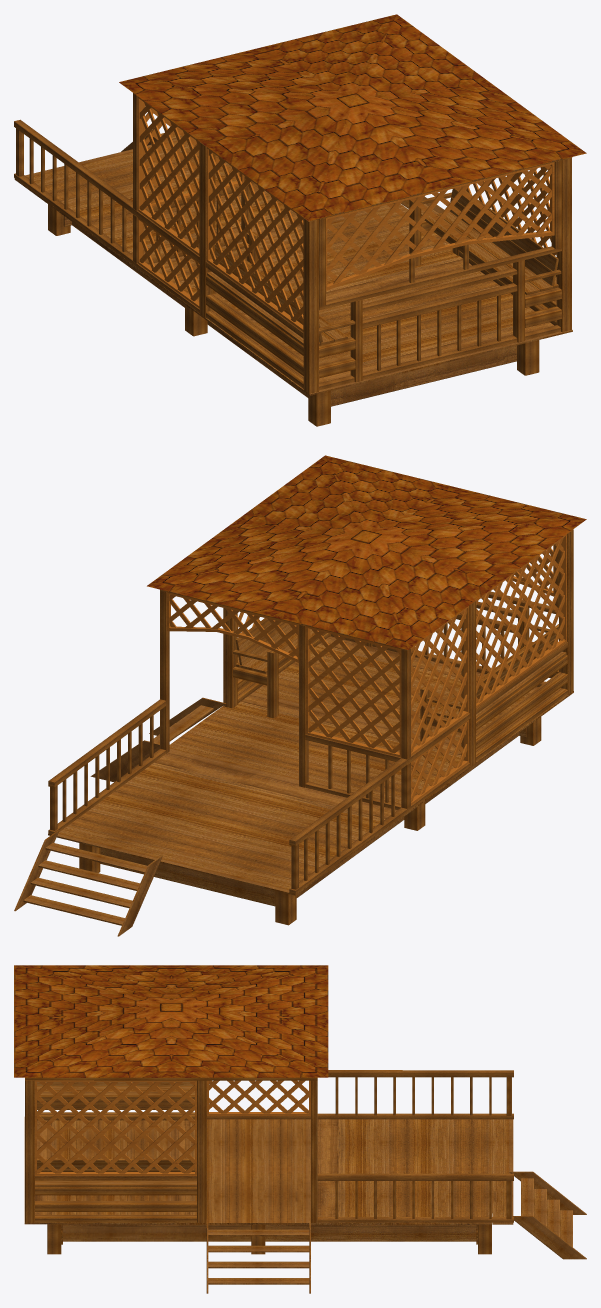
Rendered from Pavilion.FBX.
3 renders of one model, top to bottom at view 1: azimuth 30°, elevation 25°; view 2: azimuth 150°, elevation 25°; view 3: azimuth 270°, elevation 25°, orthographic. The views are drawn at different scales.
Parts seen in each view (by area): view 1: Pavilion, Pavilion_Roof; view 2: Pavilion, Pavilion_Roof, Pavilion_Stair; view 3: Pavilion, Pavilion_Roof, Pavilion_Stair.
Part boxes in pixels (left/top/right/bottom): Pavilion: left=14, top=93, right=572, bottom=426; Pavilion_Roof: left=119, top=14, right=586, bottom=221; Pavilion: left=48, top=529, right=573, bottom=925; Pavilion_Roof: left=147, top=455, right=586, bottom=649; Pavilion_Stair: left=14, top=697, right=225, bottom=936; Pavilion: left=24, top=1070, right=513, bottom=1254; Pavilion_Roof: left=14, top=965, right=328, bottom=1077; Pavilion_Stair: left=206, top=1171, right=586, bottom=1293.
Bounding box in the file's own units: 657 × 442 × 1132.
